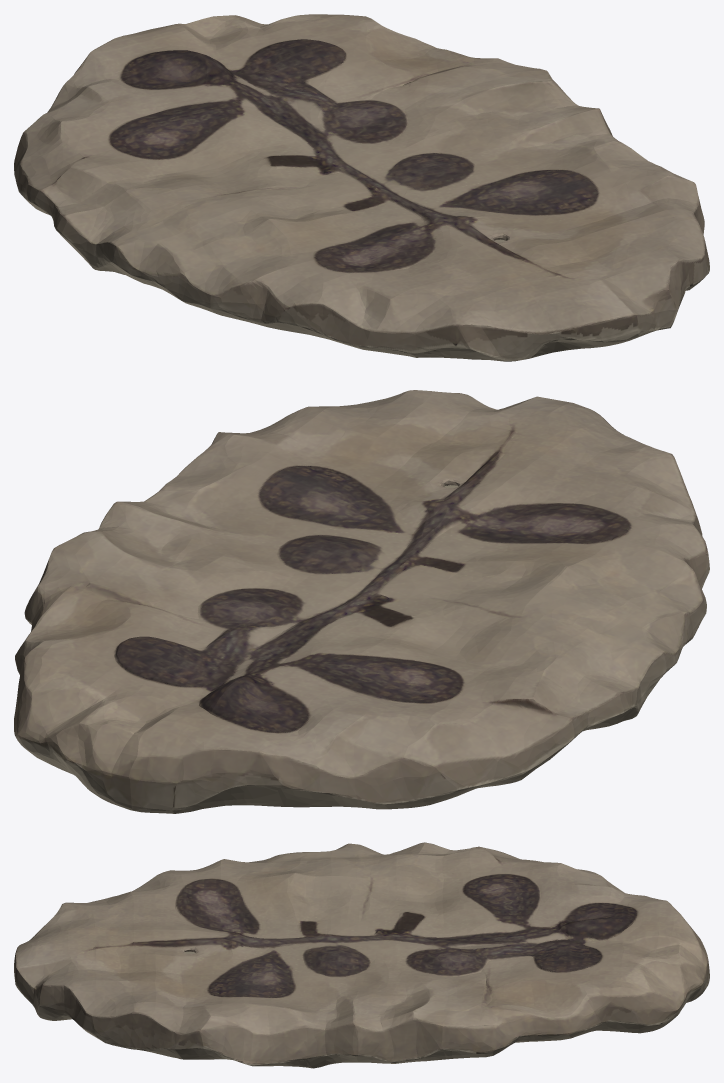
3 renders of one model, top to bottom at view 1: azimuth 30°, elevation 25°; view 2: azimuth 150°, elevation 25°; view 3: azimuth 270°, elevation 25°, orthographic. The views are drawn at different scales.
Parts seen in each view (by area): view 1: world; view 2: world; view 3: world.
Part boxes in pixels (x1,y1,x2,y2): world: (14, 14, 709, 361); world: (14, 390, 709, 813); world: (14, 842, 709, 1068).
Size of the model in its own units: 0.0366 by 0.00528 by 0.052.
1 material, 1 textured.
